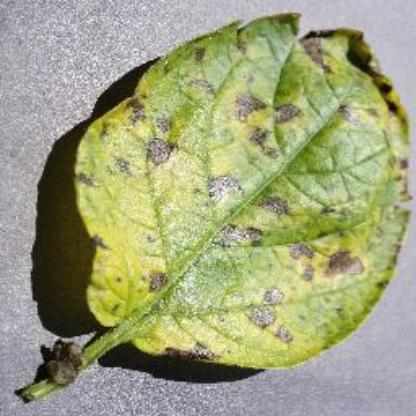Early-Blight: (36, 9, 410, 393)
